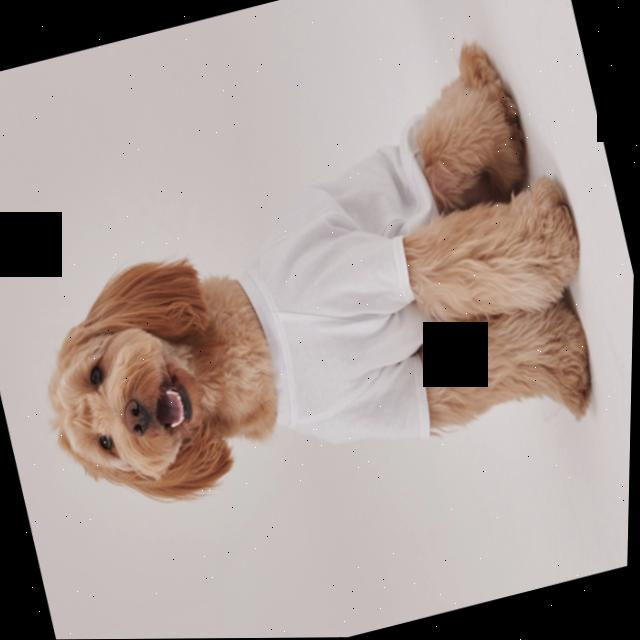cloth: (239, 122, 441, 443)
